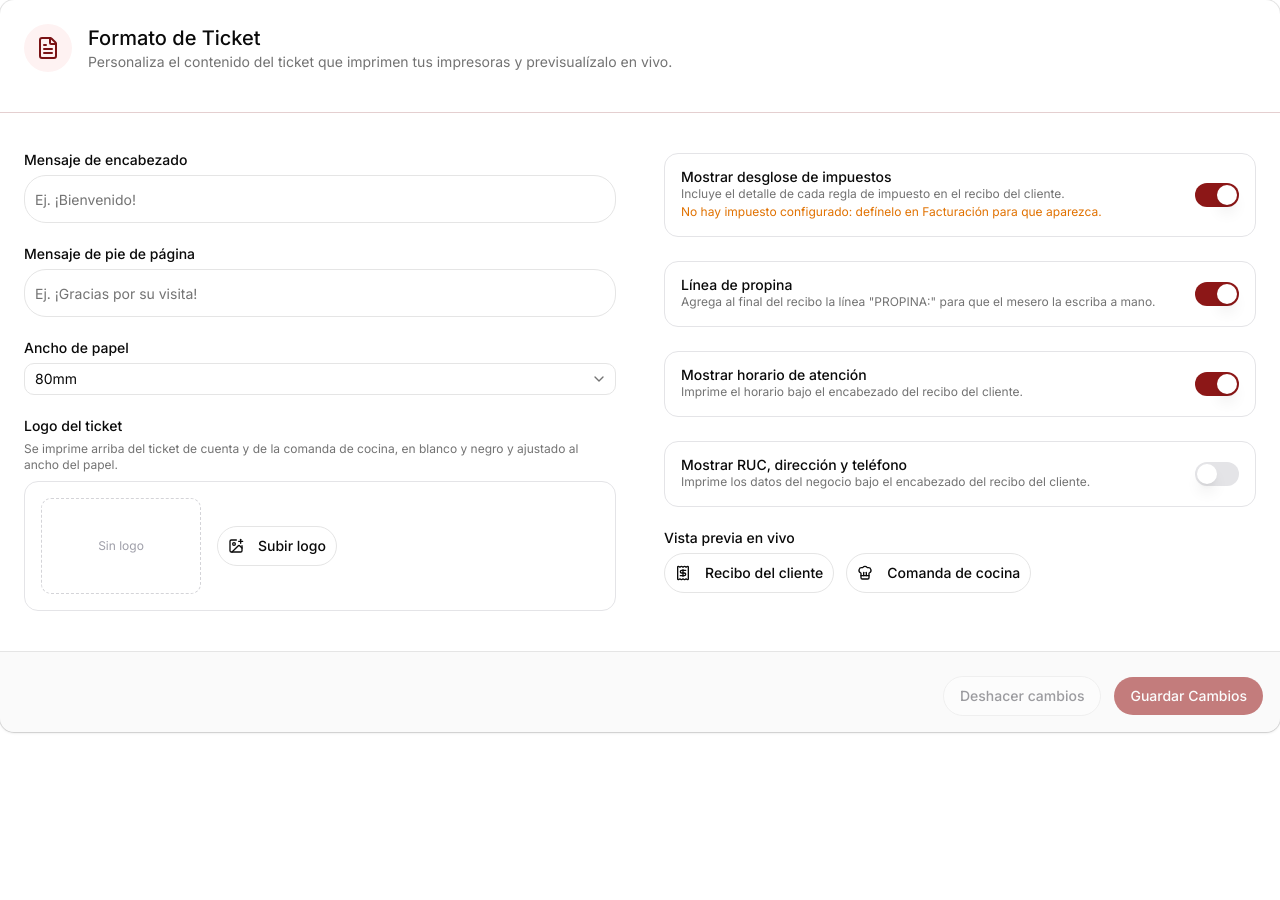
TicketSettings business info in the receipt preview › shows the opening hours by default, and RUC/address/phone only when switched on
Click the button "Recibo del cliente" at (749, 573), box [664,553,834,593]
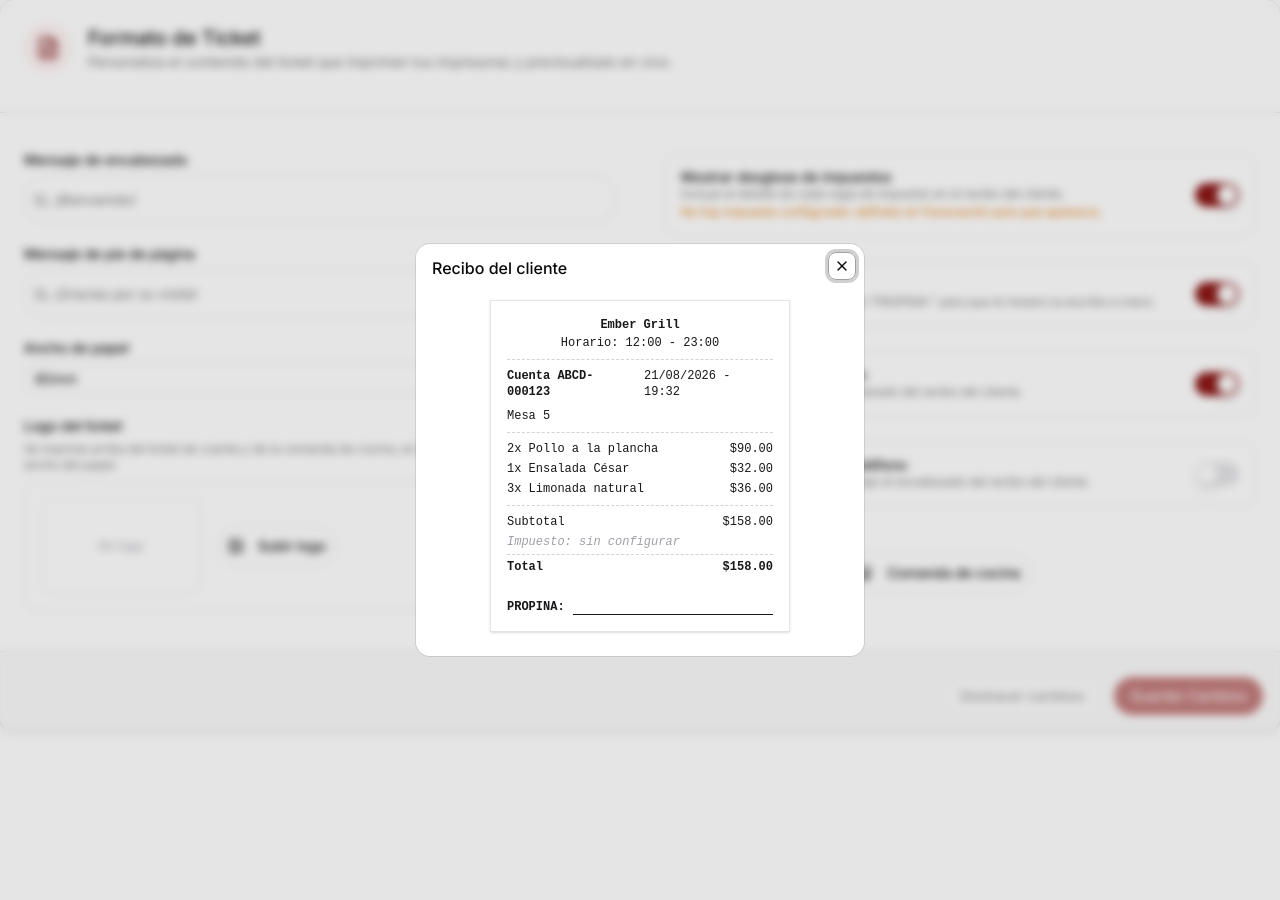
Expected: the text "Horario: 12:00 - 23:00" is shown, [561,336,719,350]
